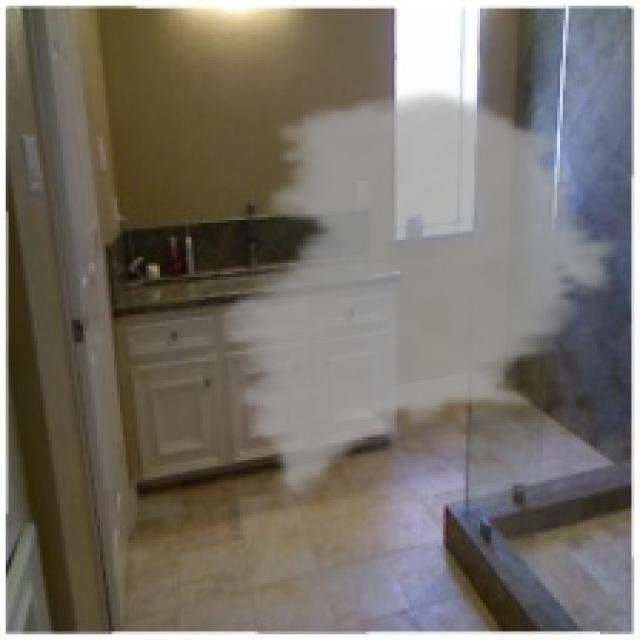smoke: (208, 86, 626, 497)
